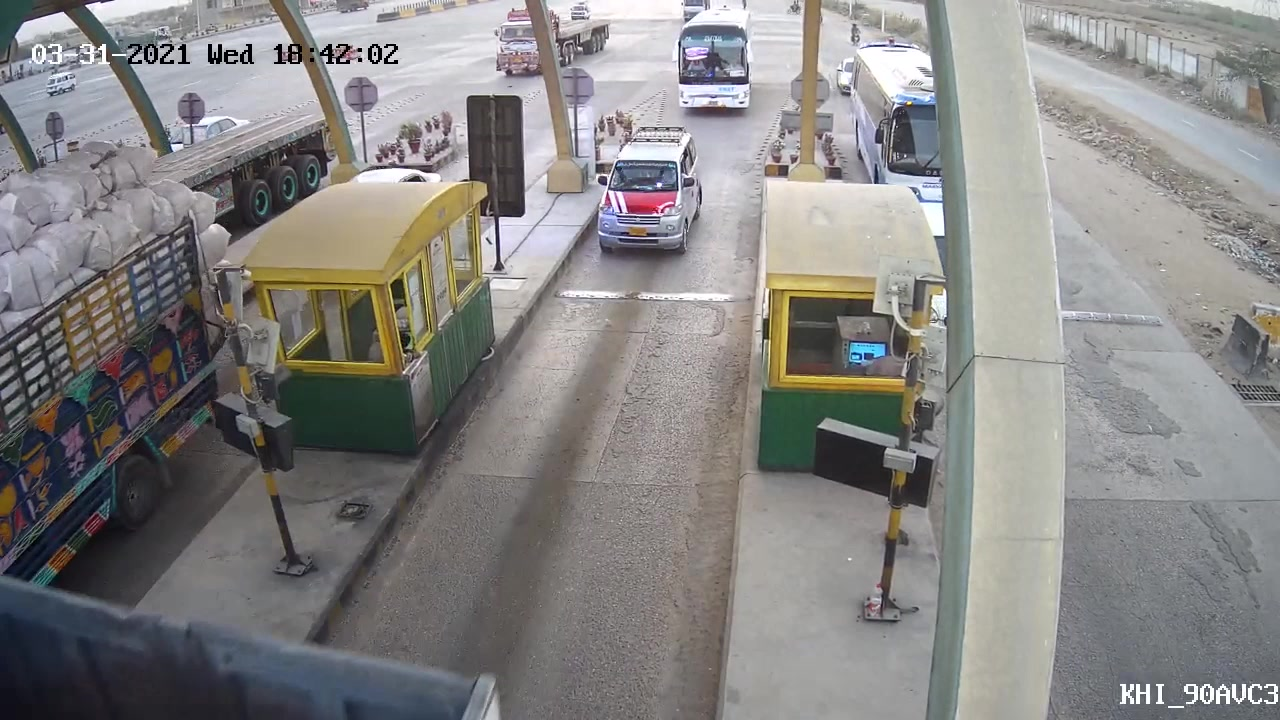F1: (583, 112, 720, 258)
